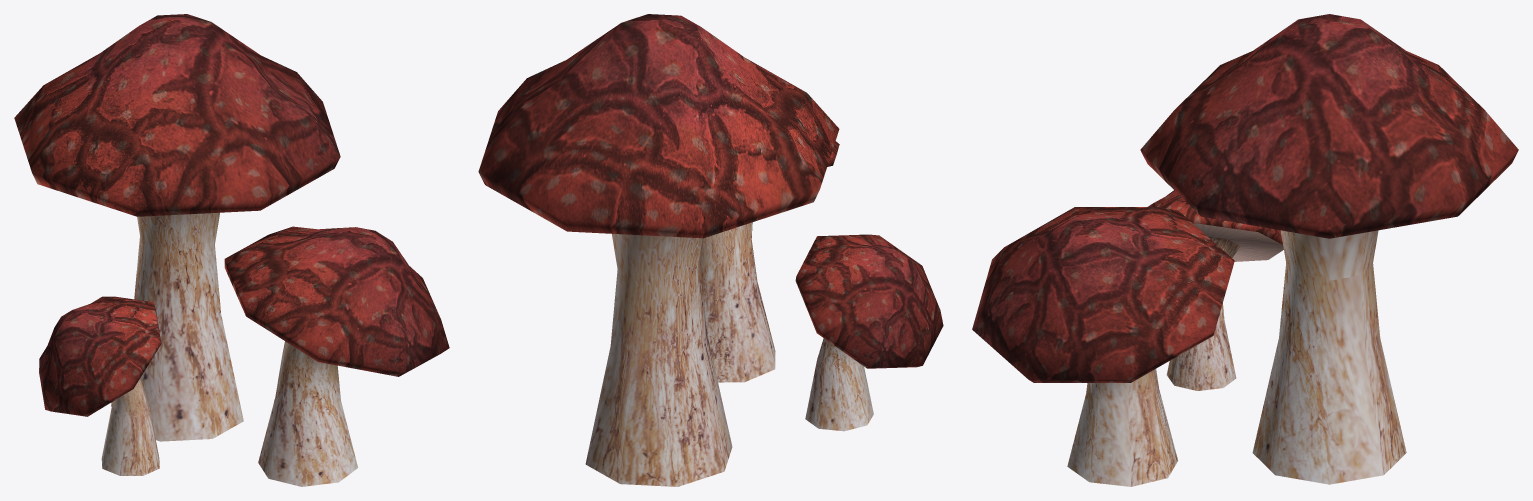
File: Mushroom.FBX
The picture shows the model from 3 angles, left to right: view 1: azimuth 30°, elevation 25°; view 2: azimuth 150°, elevation 25°; view 3: azimuth 270°, elevation 25°; orthographic projection. The views are drawn at different scales.
Parts seen in each view (by area): view 1: Box002, Box003, Box004; view 2: Box002, Box004, Box003; view 3: Box002, Box003, Box004.
Part boxes in pixels (x1=…): Box002: x1=14, y1=14, x2=340, y2=441; Box003: x1=224, y1=226, x2=449, y2=486; Box004: x1=39, y1=296, x2=161, y2=475; Box002: x1=478, y1=14, x2=839, y2=486; Box004: x1=795, y1=234, x2=943, y2=431; Box003: x1=700, y1=141, x2=839, y2=382; Box002: x1=1140, y1=14, x2=1518, y2=484; Box003: x1=972, y1=207, x2=1234, y2=486; Box004: x1=1148, y1=190, x2=1283, y2=390.
Size of the model in its own units: 17.4 by 18.97 by 21.77.
